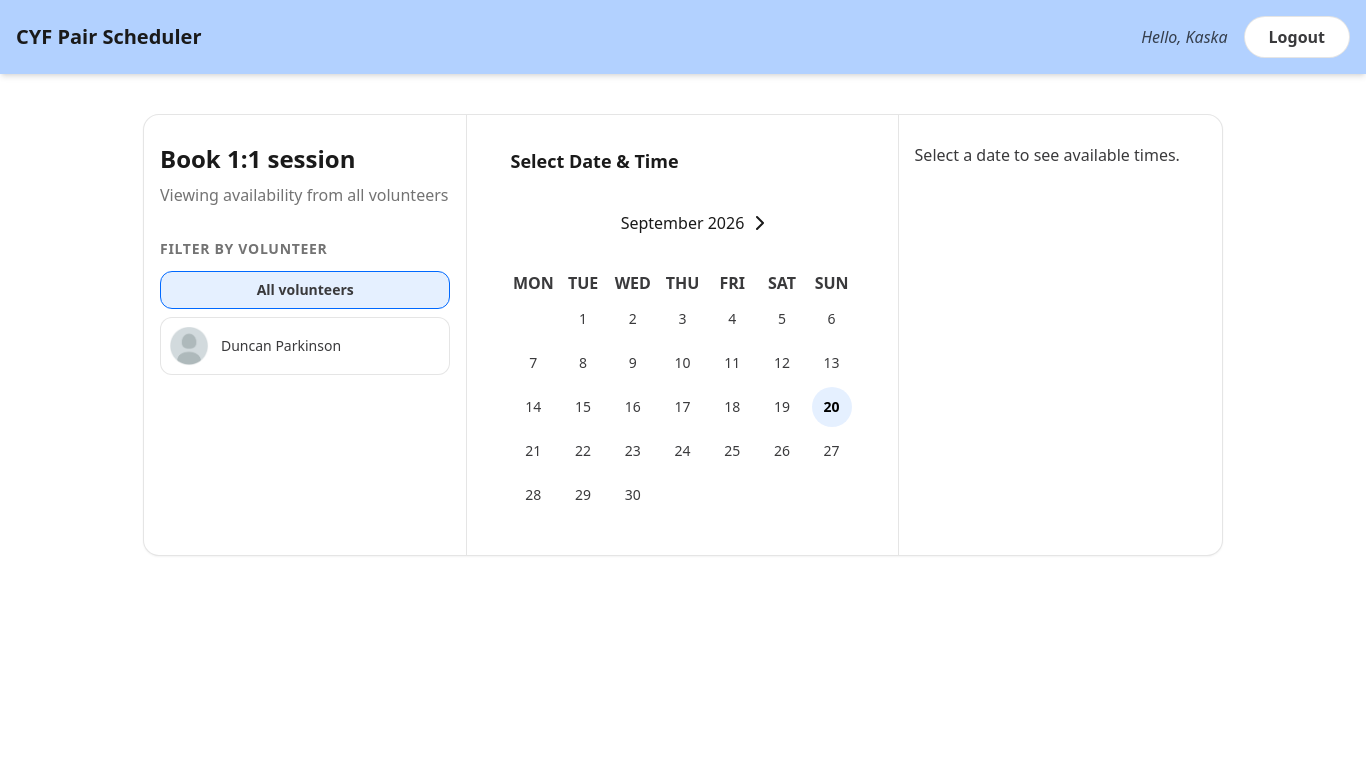
Test: Trainee booking flow › books a meeting successfully
Click the button "20" at (832, 407), box [812,387,852,427]
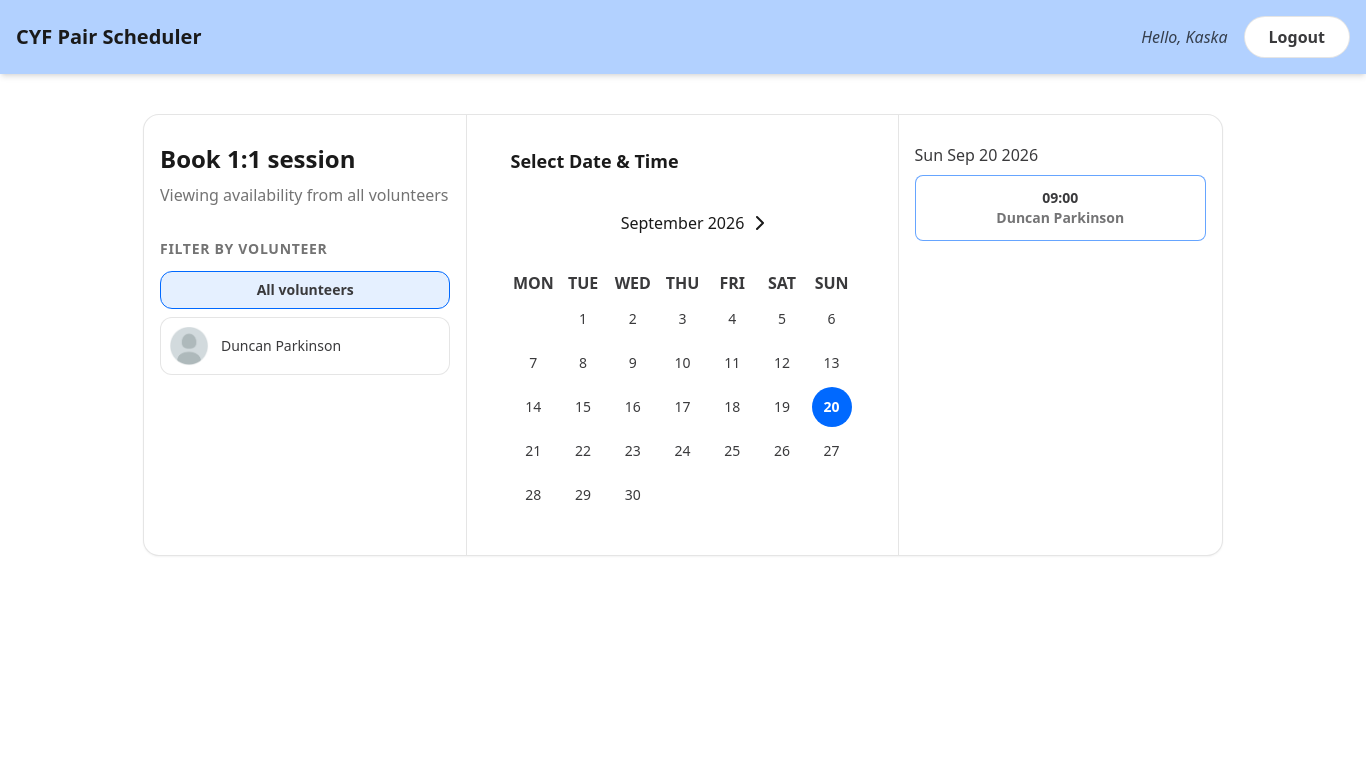
Click the button "09:00 Duncan Parkinson" at (1061, 208), box [915,175,1206,241]
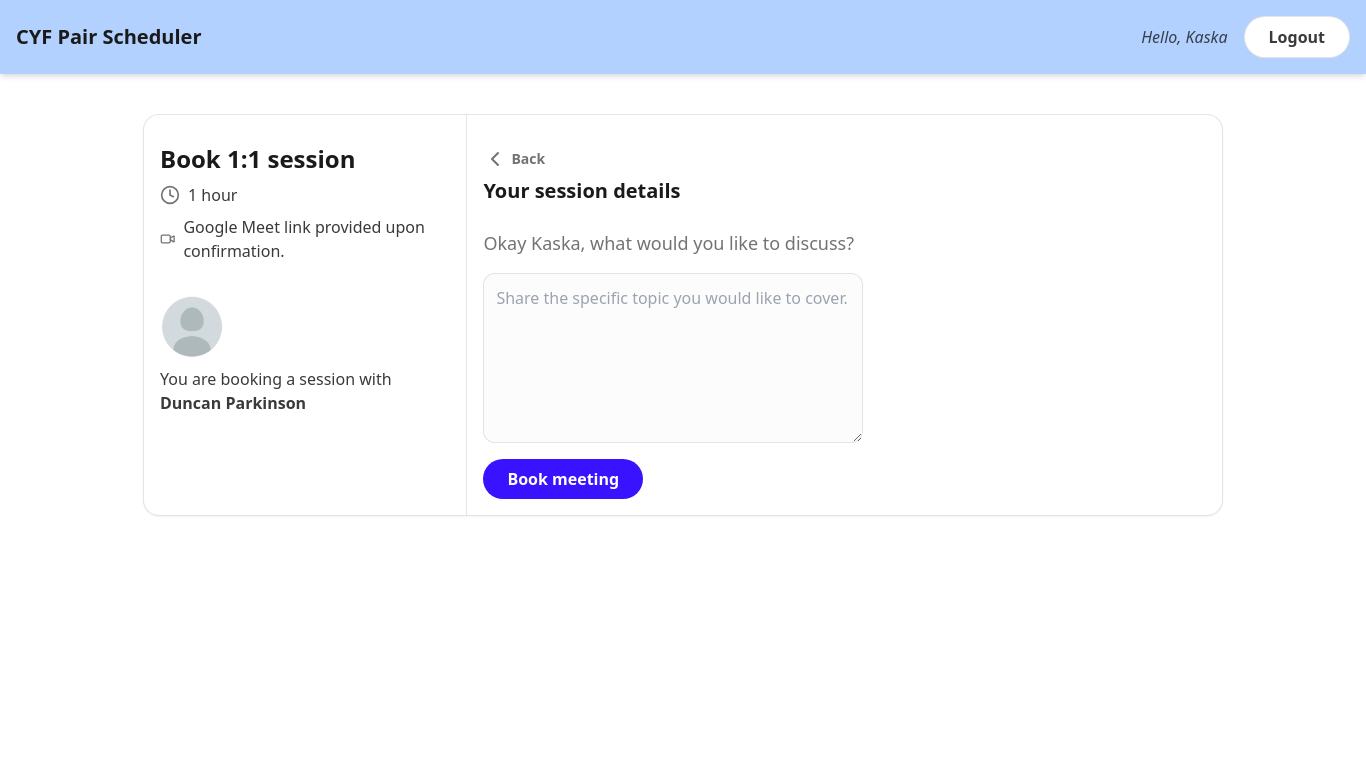
Now the element with class "booking-form-container-tr" is shown, box [483,177,863,499]
Now the heading with class "form-title-tr" reads "Your session details", box [483,177,680,204]
Now the text "Okay Kaska, what would you like to discuss?" is shown, box [483,229,863,257]
Type "I'd like to discuss React state management." into the text box with class "agenda-tr" at (673, 358), box [483,273,863,443]
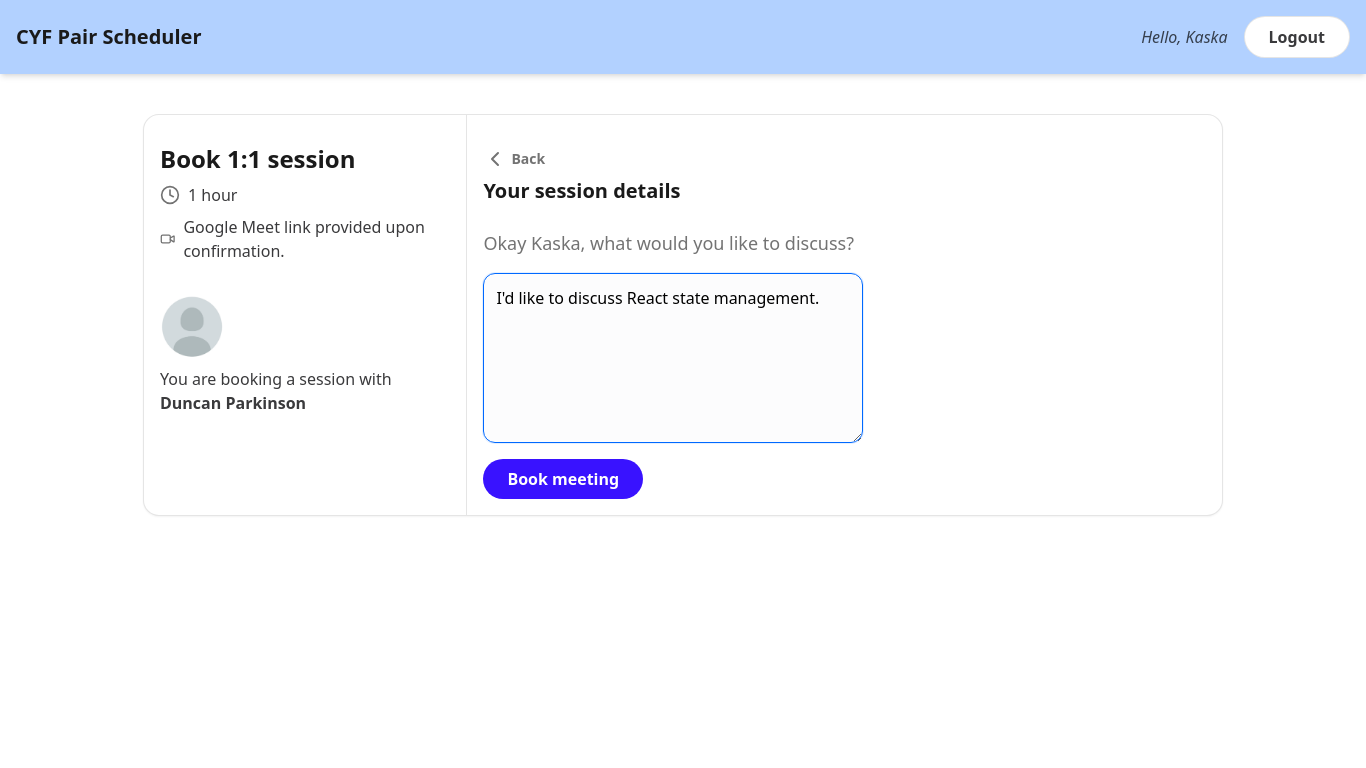
Click the button "Book meeting" at (563, 479), box [483,459,643,499]
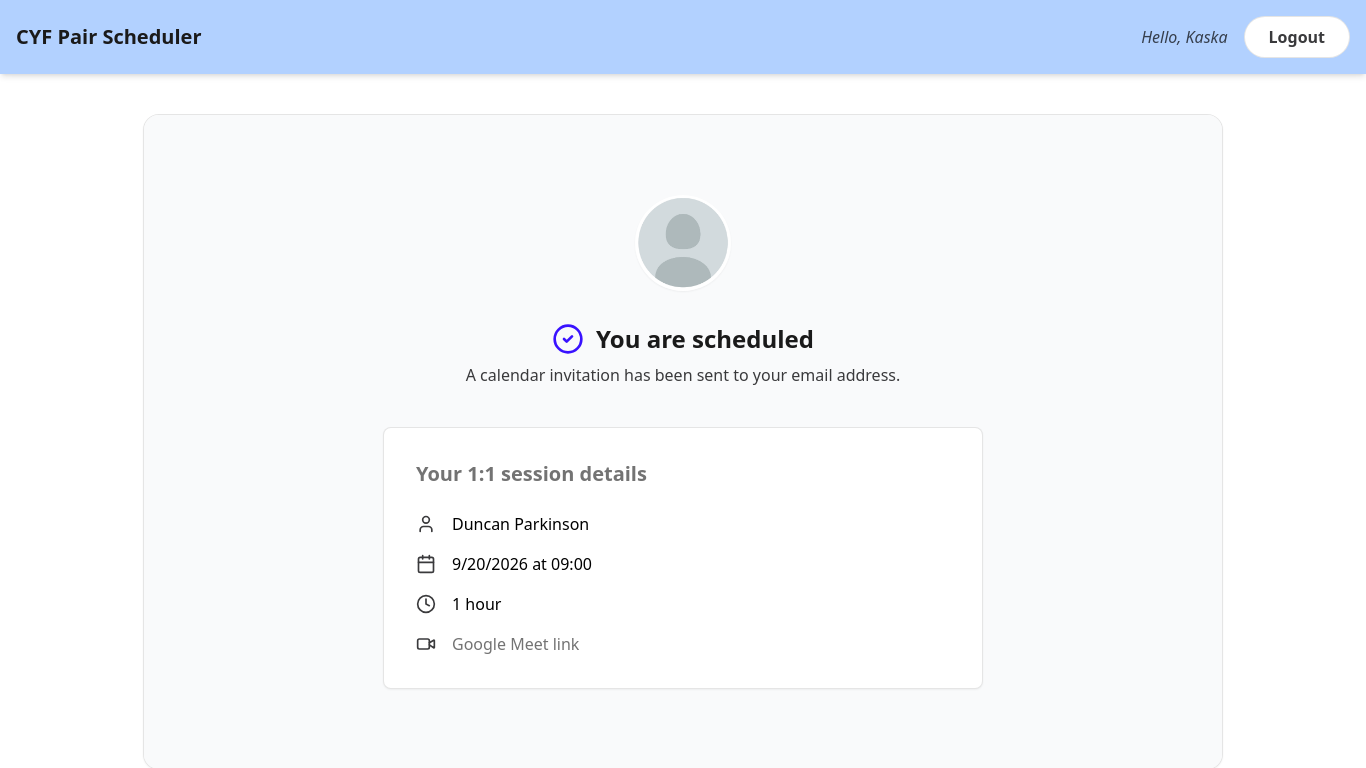
Now the element with class "confirmation-container" is shown, box [383,195,983,689]
Now the text "You are scheduled" is shown, box [596,323,814,355]
Now the text "09:00" is shown, box [551,553,592,575]
